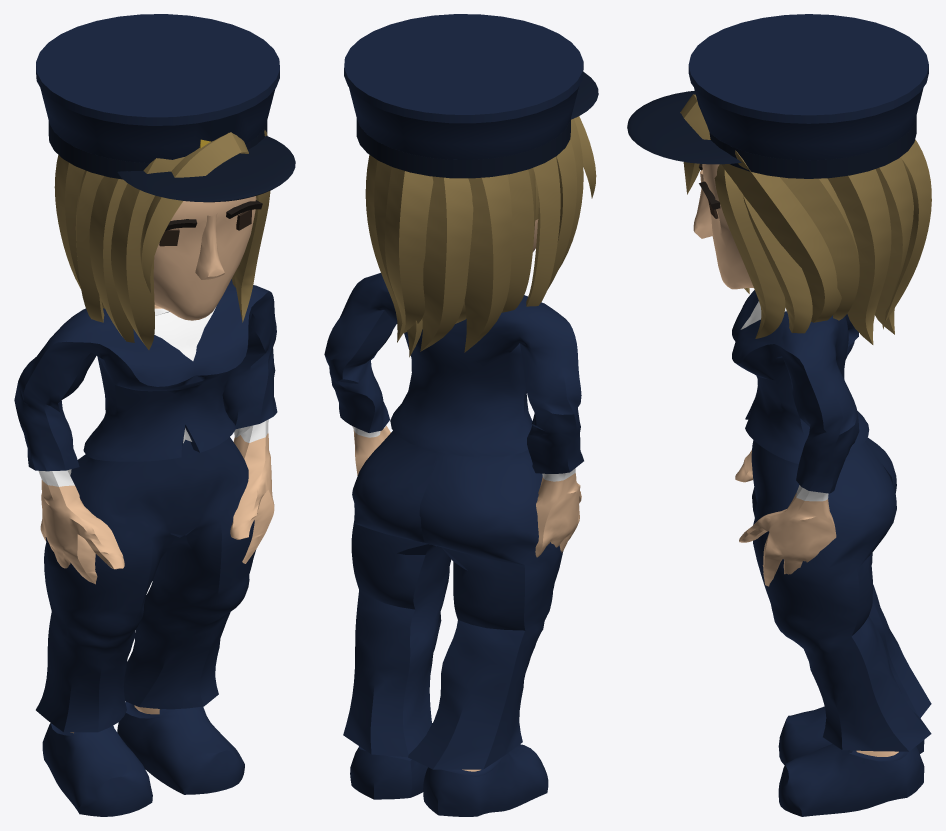
Rendered from av-capita-nautica.glb.
The picture shows the model from 3 angles, left to right: view 1: azimuth 30°, elevation 25°; view 2: azimuth 150°, elevation 25°; view 3: azimuth 270°, elevation 25°; orthographic projection. The views are drawn at different scales.
Parts seen in each view (by area): view 1: Ad_quepe_0_0; view 2: Ad_quepe_0_0; view 3: Ad_quepe_0_0.
Boxes of the visible parts, x1=… form: Ad_quepe_0_0: x1=14, y1=14, x2=295, y2=816; Ad_quepe_0_0: x1=324, y1=14, x2=598, y2=816; Ad_quepe_0_0: x1=627, y1=14, x2=931, y2=816.
Bounding box in the file's own units: 0.4969 × 1.35 × 0.5239.
